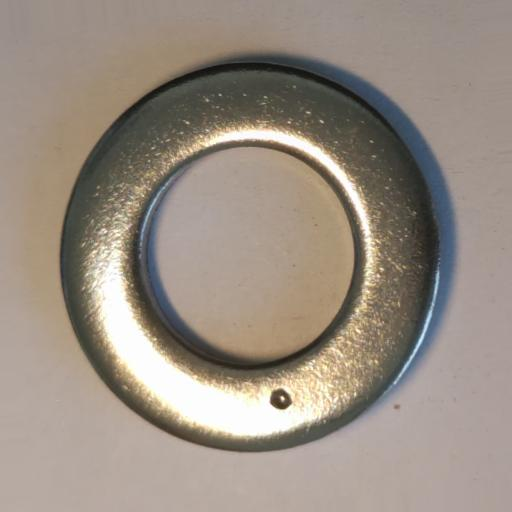circular_cavity: (270, 388, 293, 409)
